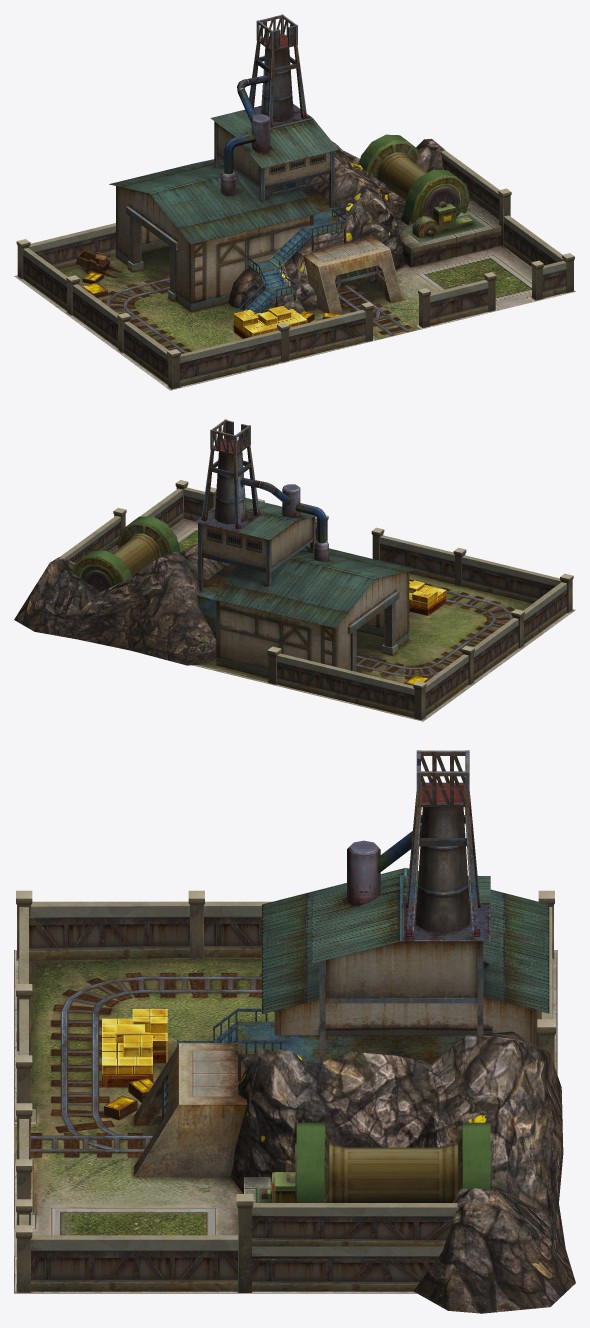
Rendered from Dhz_GoldMine_02.FBX.
3 views of the same model, one above another, from view 1: azimuth 30°, elevation 25°; view 2: azimuth 150°, elevation 25°; view 3: azimuth 270°, elevation 25° (orthographic). The views are drawn at different scales.
Visible parts, largest first — view 1: Dhz_GoldMine_02; view 2: Dhz_GoldMine_02; view 3: Dhz_GoldMine_02.
Boxes of the visible parts, x1,y1,x2,y2 form: Dhz_GoldMine_02: [14, 14, 575, 390]; Dhz_GoldMine_02: [14, 419, 575, 721]; Dhz_GoldMine_02: [14, 750, 575, 1313].
Size of the model in its own units: 196 by 99.12 by 128.
